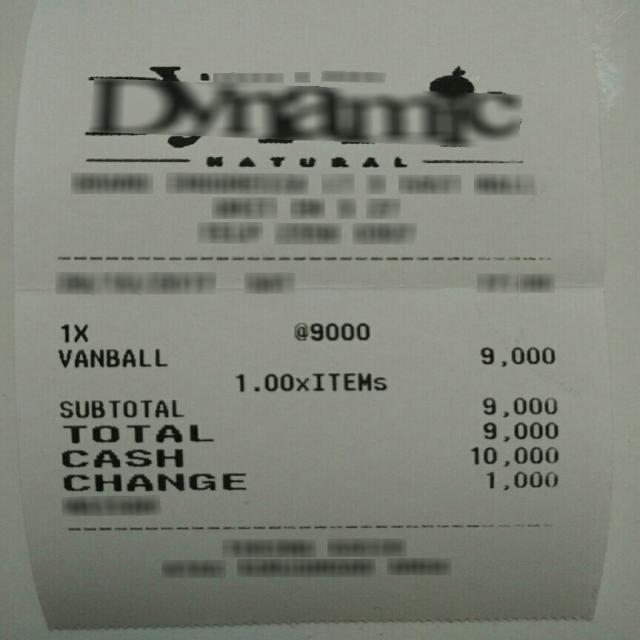kertas: (9, 0, 616, 630)
